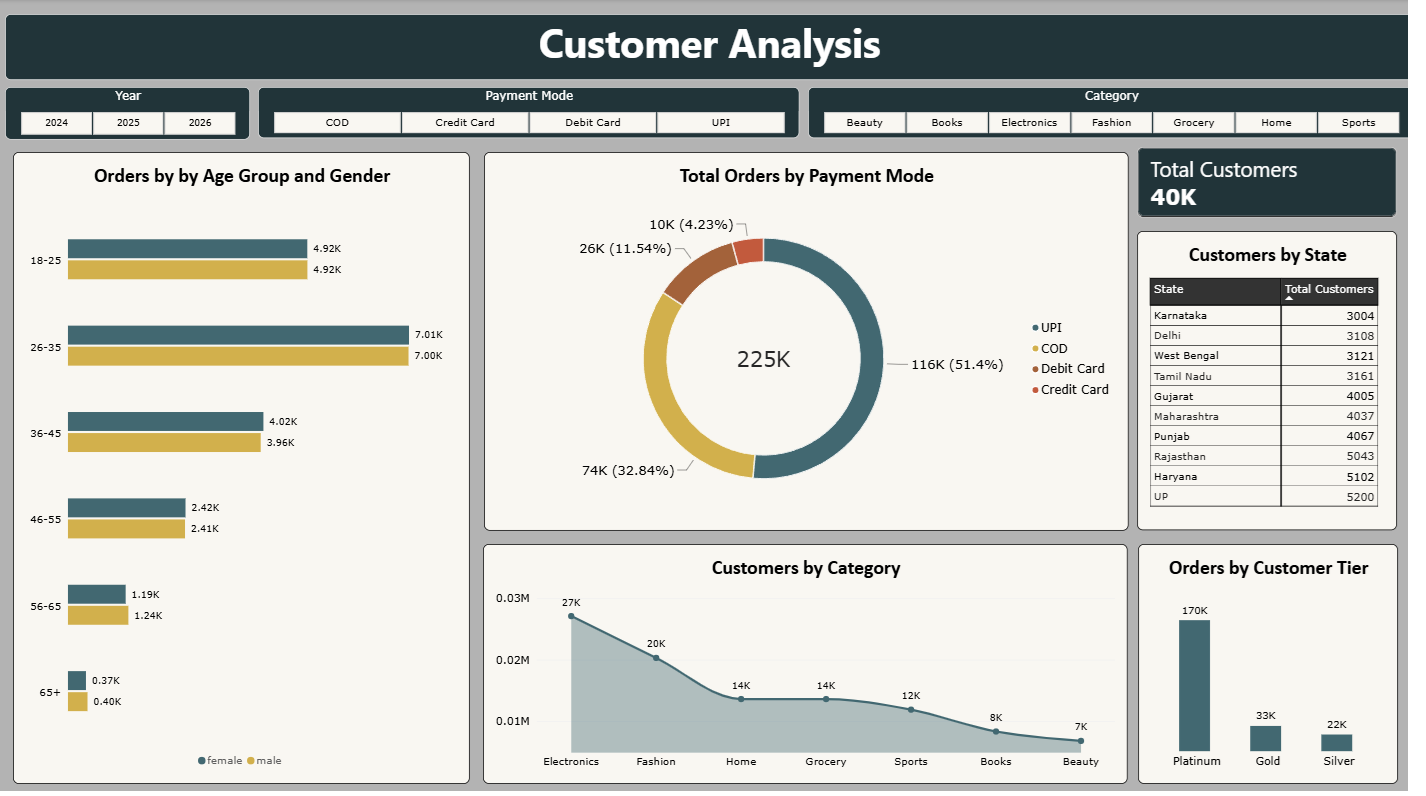

The page's visual inventory and layout, read from the dashboard file:
{"tool":"powerbi","page":{"name":"Customer Analysis","canvas":[1920,1080],"ordinal":2},"visuals":[{"type":"textbox","box":[10.8,20.2,1897.4,88.9],"z":0},{"type":"slicer","title":"Year","fields":{"Values":["sales.Order_Date.Variation.Date Hierarchy.Year"]},"box":[10.8,118.5,329.9,71.4],"z":1000},{"type":"slicer","title":"Payment Mode","fields":{"Values":["sales.Payment_Mode"]},"box":[351.5,118.5,728.5,68.7],"z":2000},{"type":"slicer","title":"Category","fields":{"Values":["products.Category"]},"box":[1092.1,118.5,816.1,68.7],"z":3000},{"type":"clusteredBarChart","title":"Orders by by Age Group and Gender","fields":{"Category":["customers.Age_Group"],"Series":["customers.Gender"],"Y":["Measure.Total Customers"]},"box":[21.7,206.1,615.2,850.8],"z":4000},{"type":"cardVisual","fields":{"Data":["Measure.Total Customers"]},"box":[1535.7,199.9,350.2,94.5],"z":5000},{"type":"pivotTable","title":"Customers by State","fields":{"Rows":["customers.State"],"Values":["Measure.Total Customers"]},"box":[1535.7,313,350.2,402.9],"z":6000},{"type":"donutChart","title":"Total Orders by Payment Mode","fields":{"Category":["sales.Payment_Mode"],"Y":["Measure.Total Orders"]},"box":[655.5,206.1,867.8,509.8],"z":7000},{"type":"areaChart","title":"Customers by Category","fields":{"Category":["products.Category"],"Y":["Measure.Total Customers"]},"box":[655,734,868,323],"z":8000},{"type":"columnChart","title":"Orders by Customer Tier","fields":{"Category":["customers.Customer_Tier"],"Y":["Measure.Total Orders"]},"box":[1536,734,350,323],"z":9000}]}

Visuals, with their boxes in screenshot pixels (x1, y1, x2, y2), scaled from the page's 1920x1080 canvas onto the 1426x796 screenshot:
textbox: select_region(8, 15, 1417, 80)
"Year" slicer: select_region(8, 87, 253, 140)
"Payment Mode" slicer: select_region(261, 87, 802, 138)
"Category" slicer: select_region(811, 87, 1417, 138)
"Orders by by Age Group and Gender" clusteredBarChart: select_region(16, 152, 473, 779)
cardVisual - Measure.Total Customers: select_region(1141, 147, 1401, 217)
"Customers by State" pivotTable: select_region(1141, 231, 1401, 528)
"Total Orders by Payment Mode" donutChart: select_region(487, 152, 1131, 528)
"Customers by Category" areaChart: select_region(486, 541, 1131, 779)
"Orders by Customer Tier" columnChart: select_region(1141, 541, 1401, 779)
